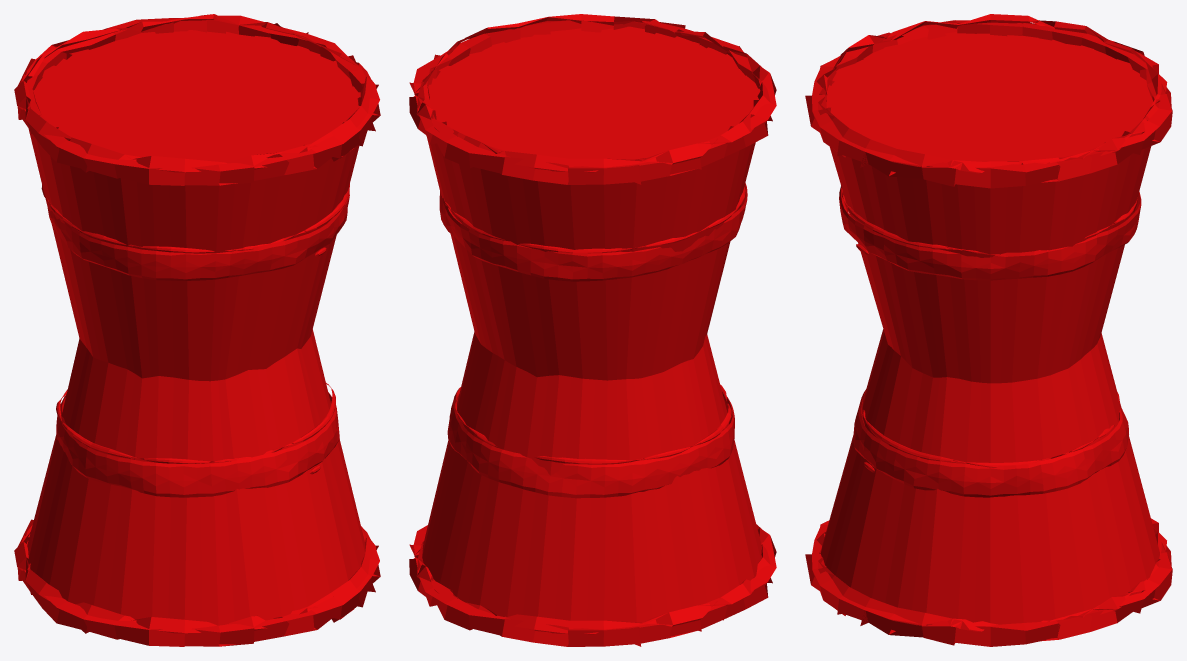
File: BarrelDestroyed.fbx
3 views of the same model, side by side, from view 1: azimuth 30°, elevation 25°; view 2: azimuth 150°, elevation 25°; view 3: azimuth 270°, elevation 25° (orthographic).
Visible parts, largest first — view 1: Cylinder, Cylinder.003, Cylinder.002, Cylinder.004, Cylinder.001; view 2: Cylinder, Cylinder.003, Cylinder.004, Cylinder.002, Cylinder.001; view 3: Cylinder, Cylinder.003, Cylinder.004, Cylinder.002, Cylinder.001.
Part boxes in pixels (x1=…): Cylinder: x1=27, y1=30, x2=365, y2=625; Cylinder.003: x1=14, y1=14, x2=380, y2=185; Cylinder.002: x1=56, y1=383, x2=339, y2=497; Cylinder.004: x1=14, y1=519, x2=380, y2=646; Cylinder.001: x1=41, y1=184, x2=349, y2=280; Cylinder: x1=422, y1=26, x2=762, y2=622; Cylinder.003: x1=409, y1=14, x2=776, y2=184; Cylinder.004: x1=409, y1=524, x2=776, y2=646; Cylinder.002: x1=447, y1=384, x2=734, y2=498; Cylinder.001: x1=439, y1=183, x2=747, y2=281; Cylinder: x1=820, y1=32, x2=1159, y2=624; Cylinder.003: x1=805, y1=14, x2=1172, y2=188; Cylinder.004: x1=805, y1=518, x2=1172, y2=646; Cylinder.002: x1=853, y1=389, x2=1128, y2=497; Cylinder.001: x1=839, y1=186, x2=1141, y2=280.
Size of the model in its own units: 106 by 157 by 107.
